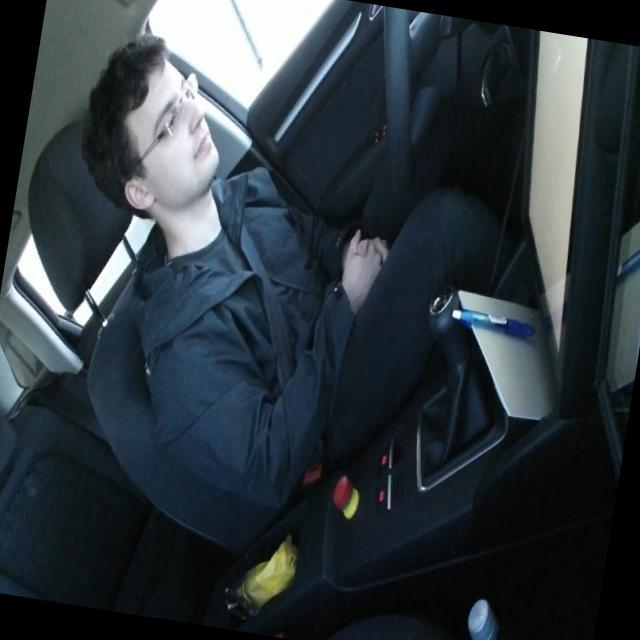pen: (449, 304, 538, 341)
